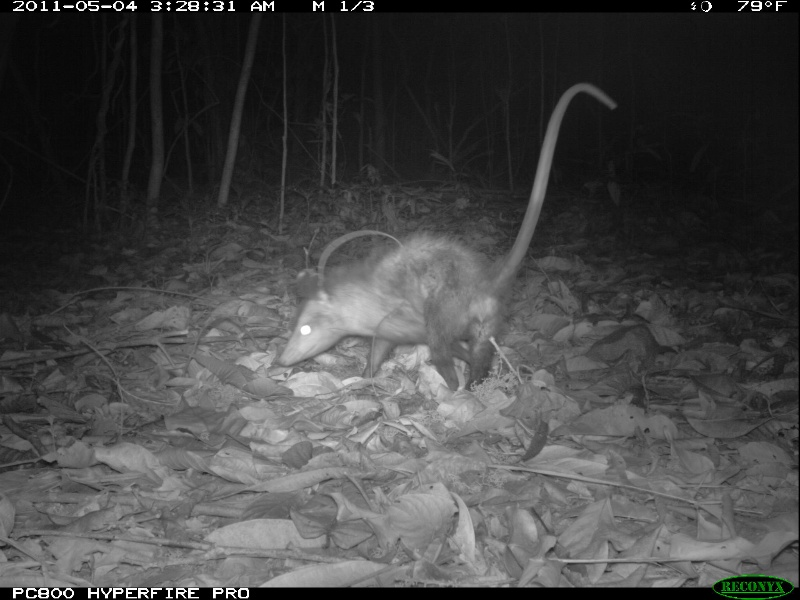opossum: (279, 81, 617, 393)
